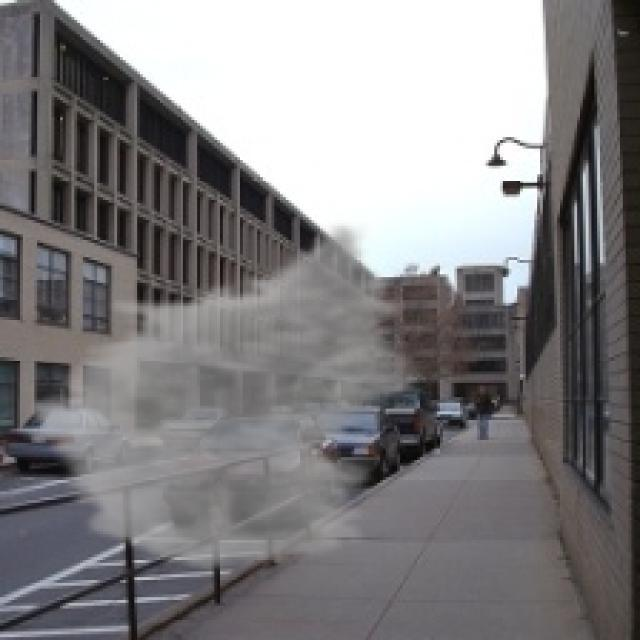Smoke: (14, 220, 432, 574)
